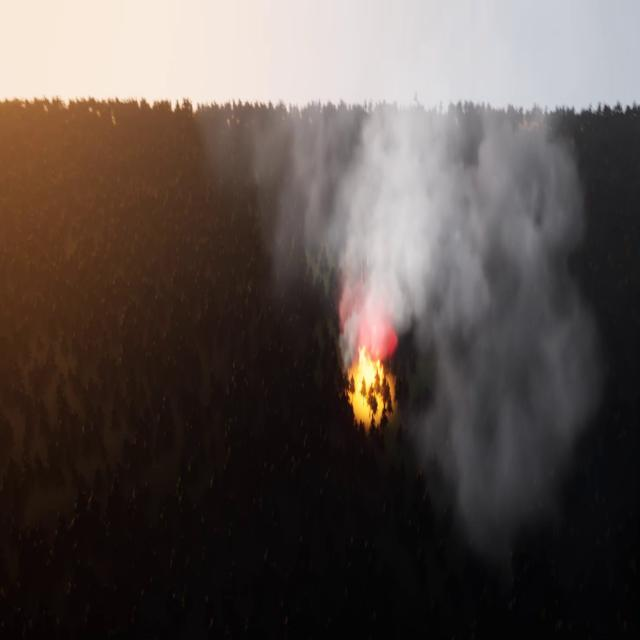fire: (348, 344, 384, 402)
smoke: (192, 19, 613, 560)
